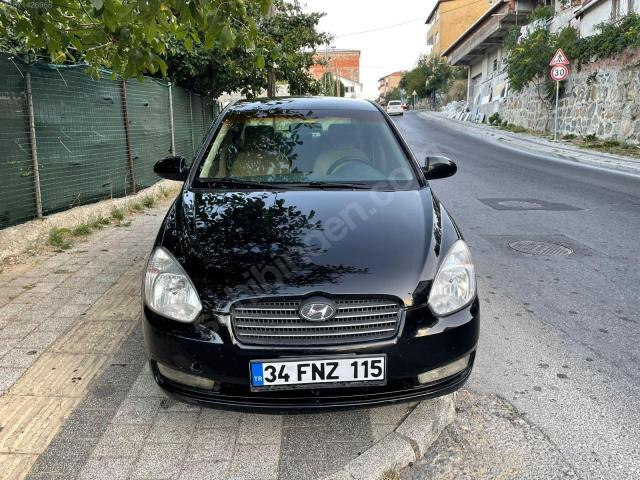plaka: (250, 355, 386, 386)
